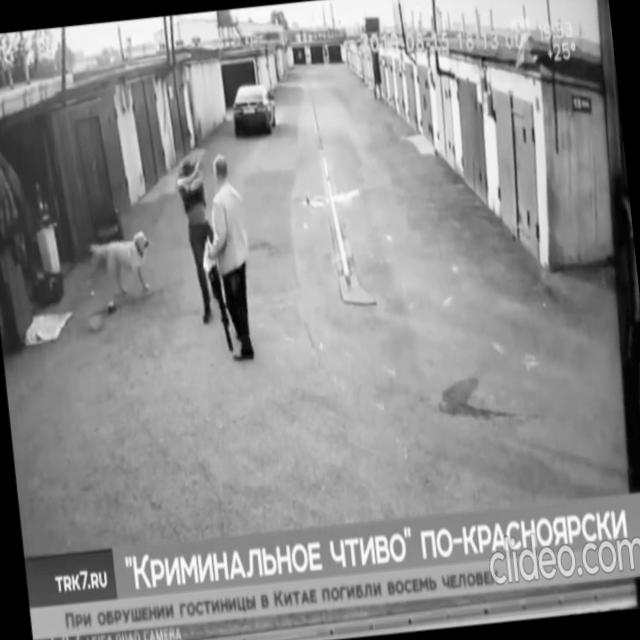gun: (196, 215, 234, 355)
person: (172, 151, 230, 331)
person with a gun: (189, 150, 262, 367)
